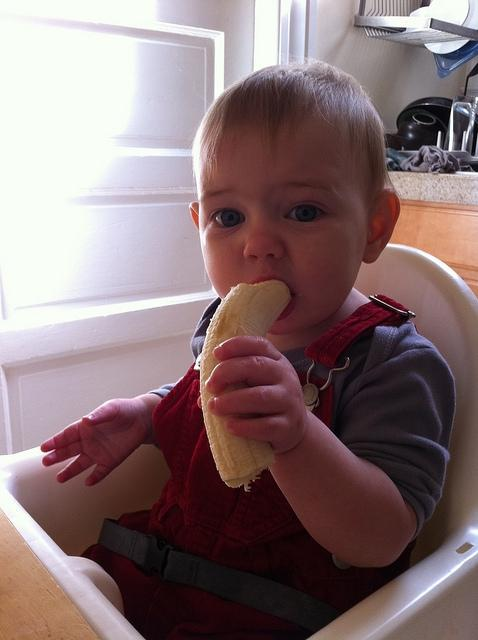banana: (200, 280, 292, 492)
